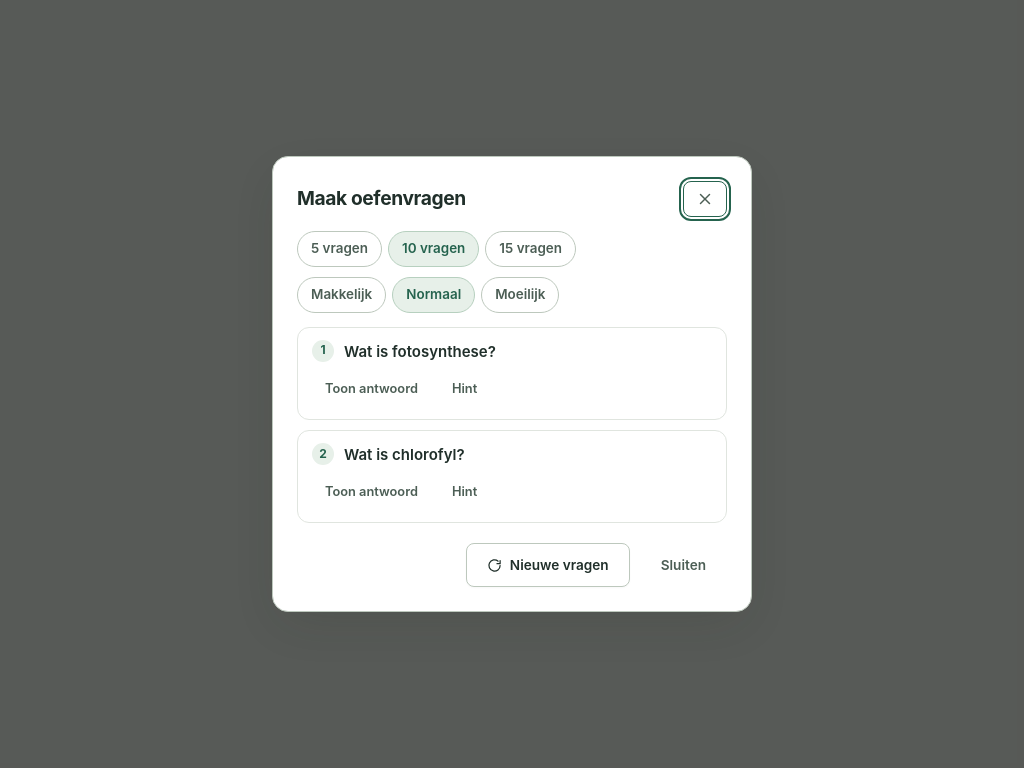
Test: AiQuestionsModal › reveals the answer of one question only
The image size is (1024, 768).
Expected: the text "Wat is fotosynthese?" is shown, [344,342,496,361]
Click the button "Toon antwoord" below "Wat is fotosynthese?": [371, 389] box [312,371,431,407]
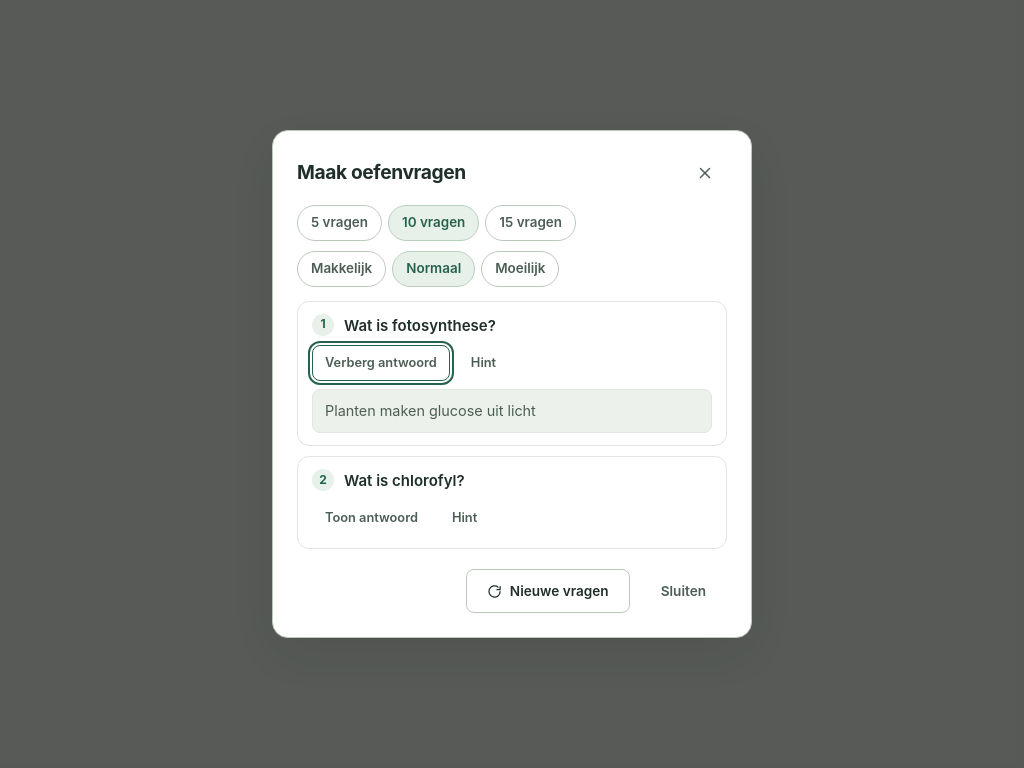
Expected: the text "Planten maken glucose uit licht" is shown, [312,389,712,433]
